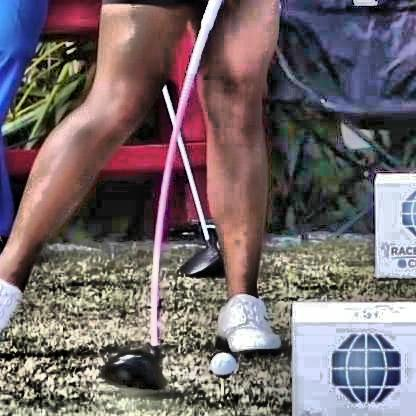golfball: (206, 349, 234, 374)
